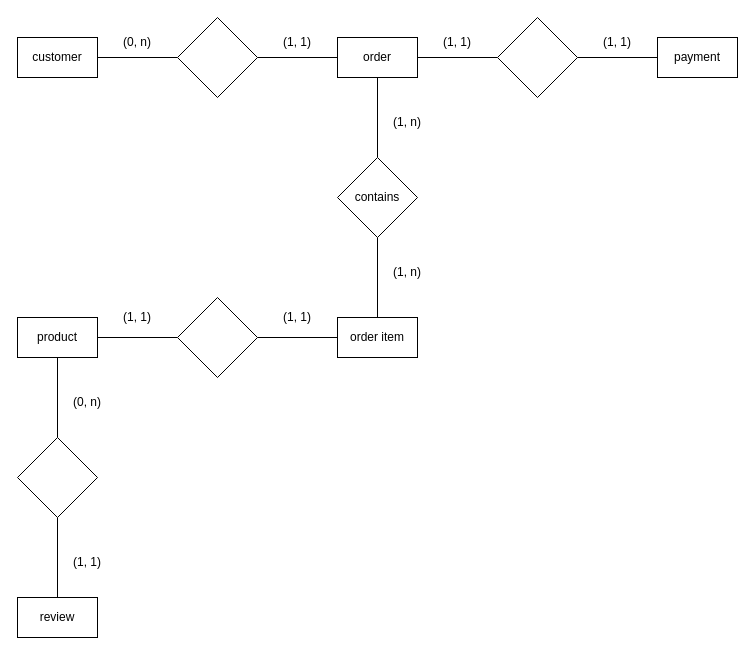
This 755x655 diagram has some shape labels left out. The centre of each missing label's shape, as x and y in pixels:
"associate" belongs at point (537, 57).
"has" belongs at point (57, 477).
"includes" belongs at point (217, 337).
"places" belongs at point (217, 57).
